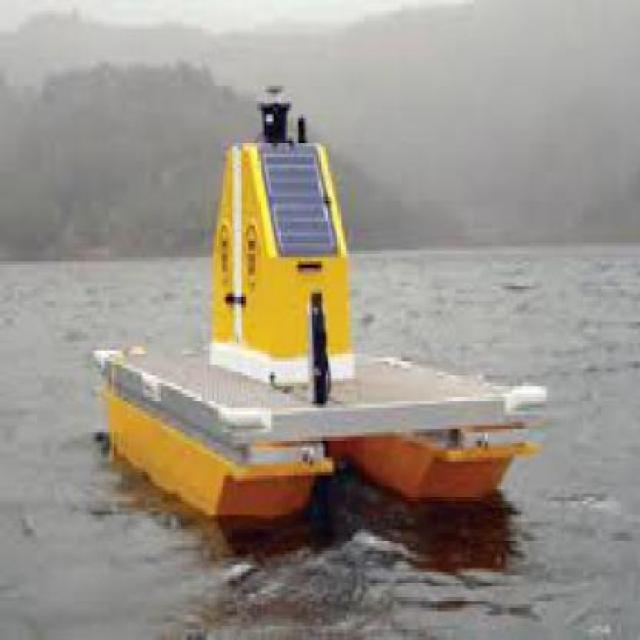buoy: (83, 72, 560, 545)
